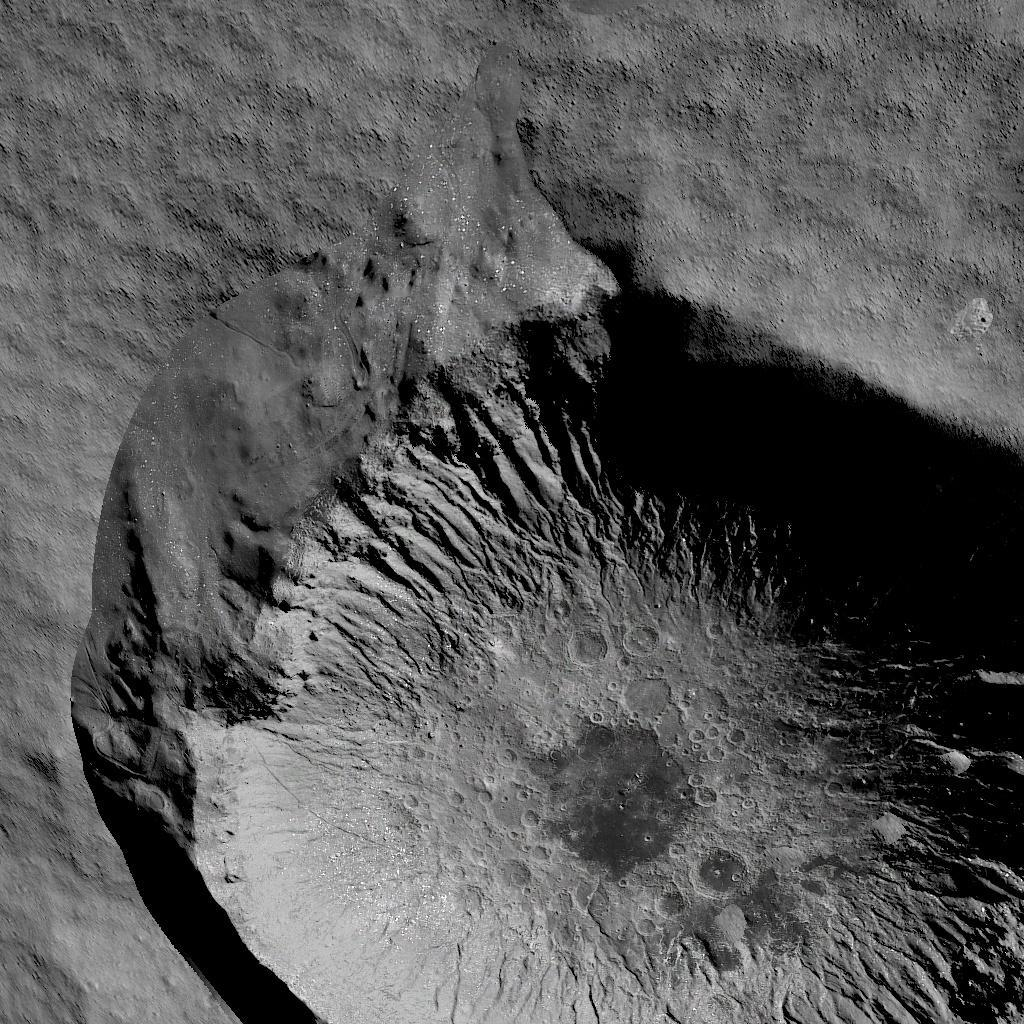Crater: (2, 184, 1024, 1024)
Plan surface: (2, 2, 1018, 167)
